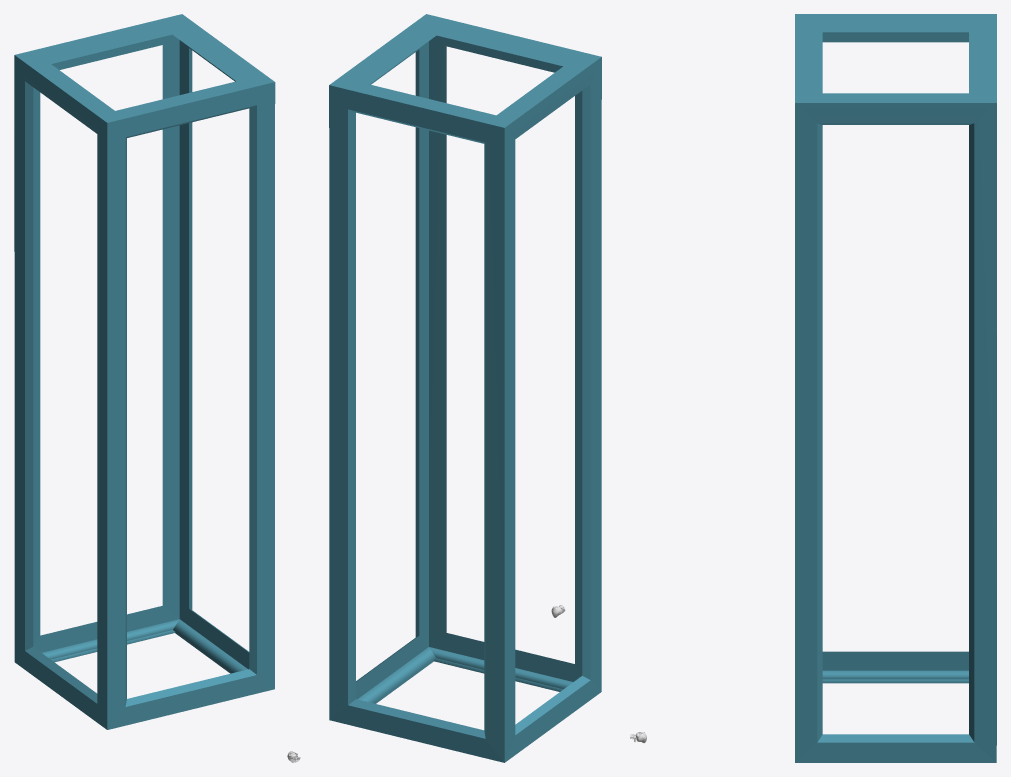
File: Door_Open.fbx
3 renders of one model, left to right at view 1: azimuth 30°, elevation 25°; view 2: azimuth 150°, elevation 25°; view 3: azimuth 270°, elevation 25°, orthographic. The views are drawn at different scales.
Parts seen in each view (by area): view 1: Box001; view 2: Box001; view 3: Box001.
Part boxes in pixels (left/top/right/bottom): Box001: left=14, top=14, right=275, bottom=729; Box001: left=329, top=14, right=601, bottom=762; Box001: left=795, top=14, right=996, bottom=762.
Bounding box in the file's own units: 16.58 × 58.06 × 28.87.
